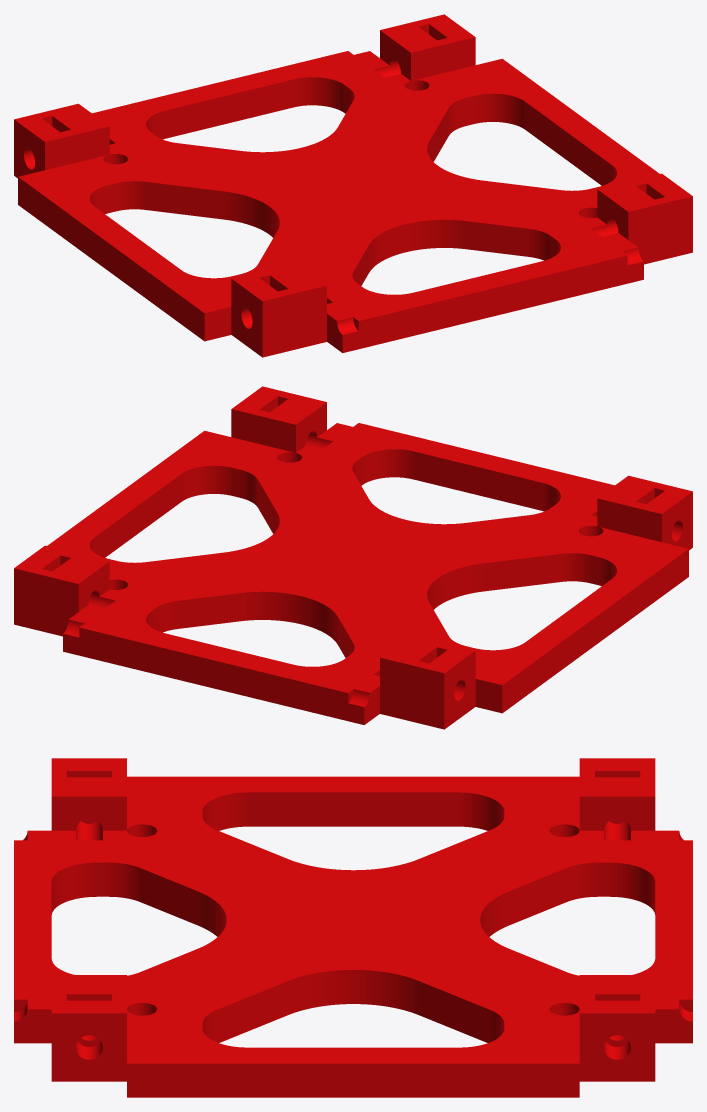
3 views of the same model, one above another, from view 1: azimuth 30°, elevation 25°; view 2: azimuth 150°, elevation 25°; view 3: azimuth 270°, elevation 25° (orthographic). The views are drawn at different scales.
Parts seen in each view (by area): view 1: Bottom; view 2: Bottom; view 3: Bottom.
Boxes of the visible parts, x1,y1,x2,y2 form: Bottom: (14, 14, 692, 357); Bottom: (14, 386, 692, 729); Bottom: (14, 758, 692, 1097).
Size of the model in its own units: 90 by 10 by 90.
